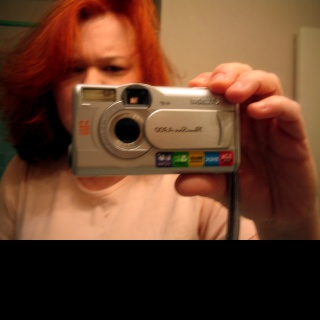without_mask: (53, 14, 142, 135)
